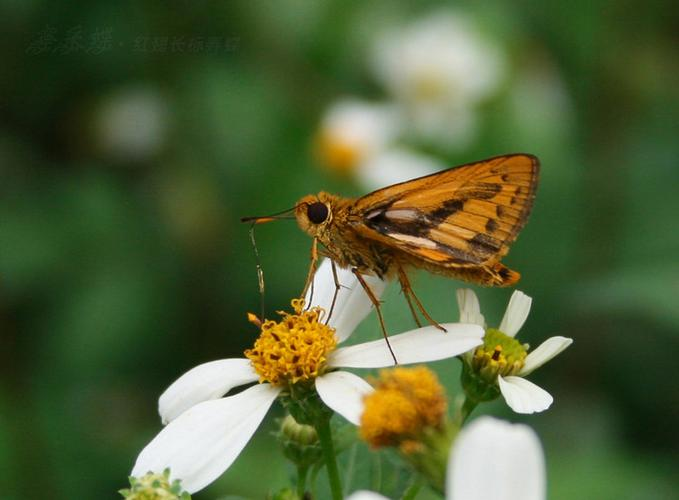Hesperiidae: (235, 152, 538, 343)
